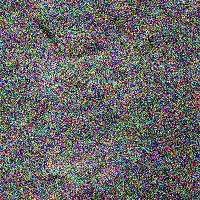rolled-in_scale: (64, 69, 124, 134), (76, 30, 135, 91), (46, 163, 116, 199), (60, 9, 108, 56)
